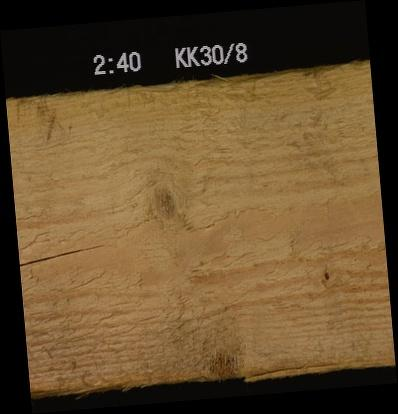edge_knot: (205, 335, 250, 382)
small_knot: (319, 266, 338, 281)
sound_knot: (147, 178, 193, 228)
split: (18, 243, 110, 266), (257, 356, 344, 371)
